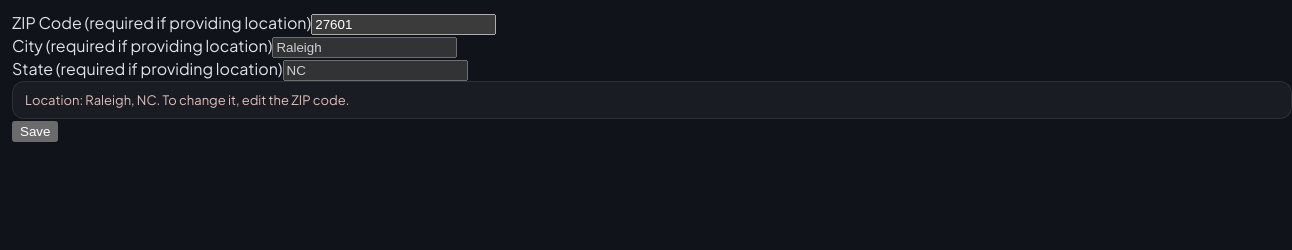
Test: LocationFields › does not save a changed ZIP code submitted with Enter
Replace the text in the field labelled "ZIP Code (required if providing location)" with "27701" at (404,24), box [311,14,496,35]
Then press Enter
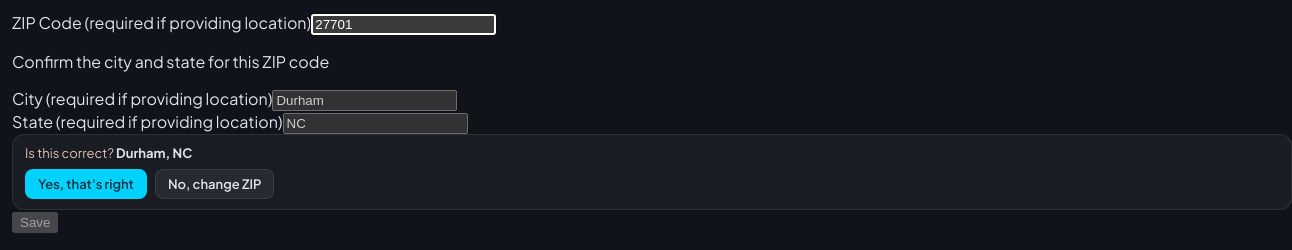
Result: the text "Durham, NC" is shown at [116,145,192,161]
Result: the field labelled "City (required if providing location)" holds "Durham" at [272,90,457,111]
